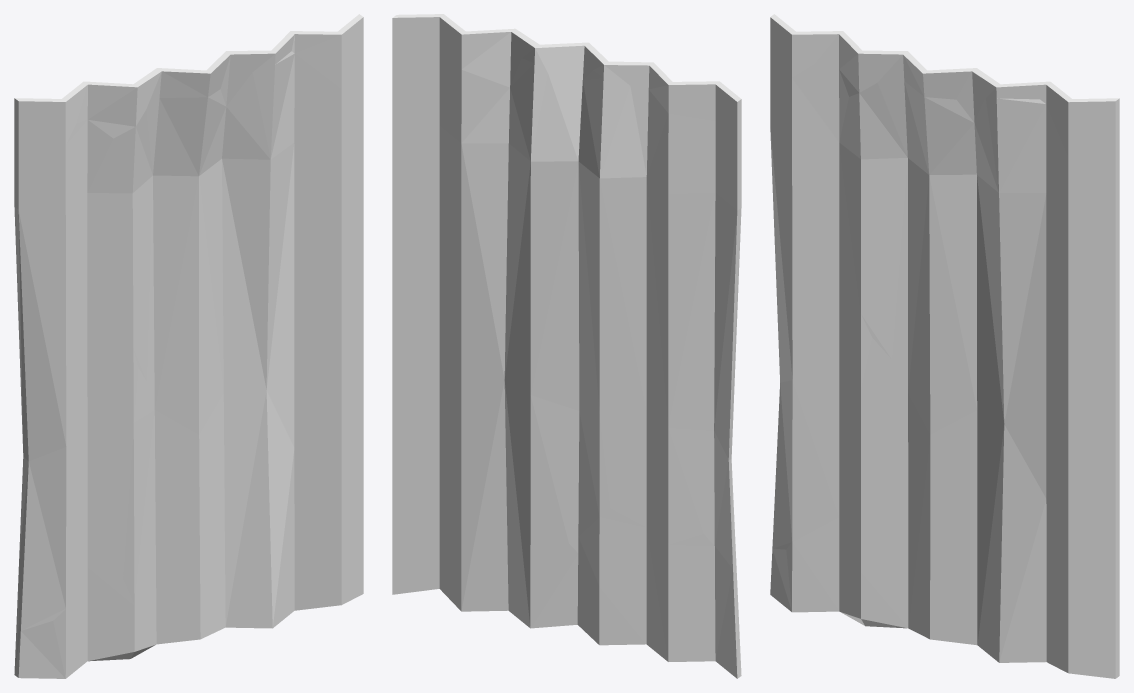
Rendered from Prop_Metal_Sheet_03.glb.
3 views of the same model, side by side, from view 1: azimuth 30°, elevation 25°; view 2: azimuth 150°, elevation 25°; view 3: azimuth 330°, elevation 25° (orthographic).
Visible parts, largest first — view 1: Prop_Metal_Sheet_03; view 2: Prop_Metal_Sheet_03; view 3: Prop_Metal_Sheet_03.
Part boxes in pixels (x1,y1,x2,y2): Prop_Metal_Sheet_03: (14,14,363,678); Prop_Metal_Sheet_03: (392,14,741,678); Prop_Metal_Sheet_03: (770,14,1119,678).
Size of the model in its own units: 1.07 by 1.7 by 0.1357.
Materials: 1 (1 with a texture image).
